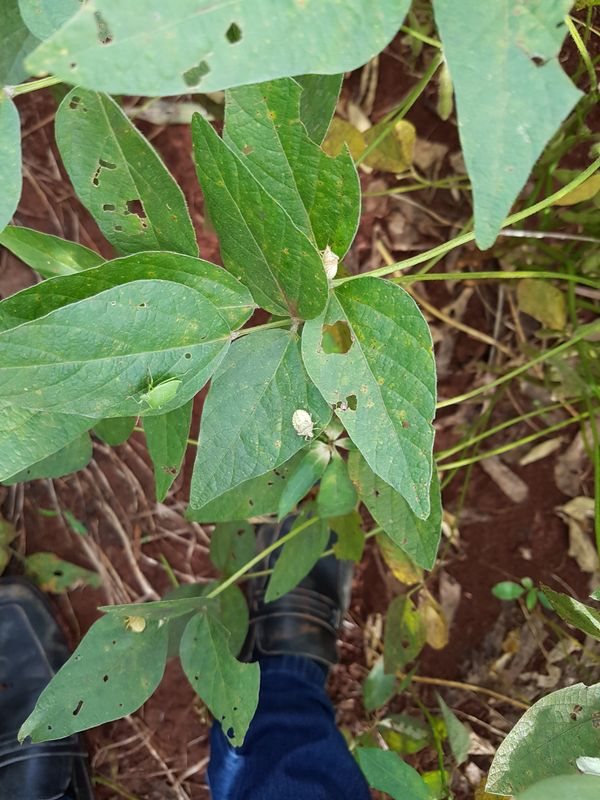Euschistus_heros_ninfa: (283, 405, 323, 446), (120, 610, 151, 637)
Nezara_viridula_adulto: (123, 363, 194, 418)
